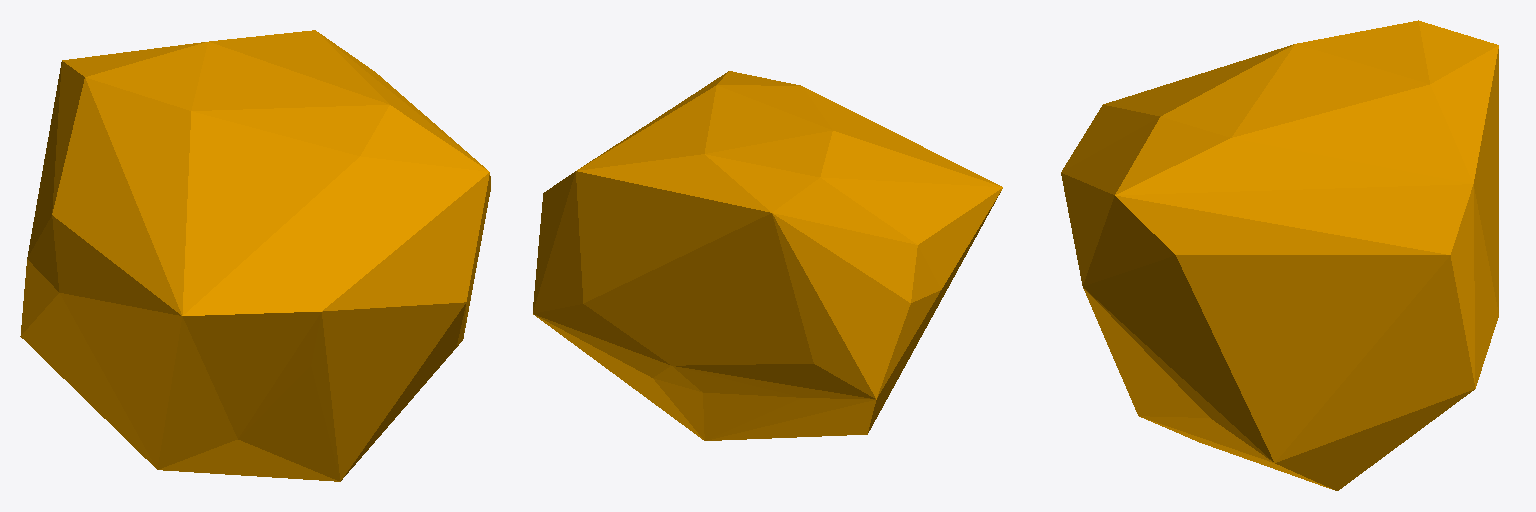
robot.urdf — 48_003:
<?xml version="1.0"?>
<robot name="48_003">
  <link name="link">
    <contact>
      <lateral_friction value="0.6"/>
    </contact>
    <inertial>
      <mass value = "0.5612344853050782"/>
      <inertia ixx="0.00031948880832318805" ixy="1.0314978911225971e-05" ixz="-5.894915789913554e-06" iyy="0.00033983099676156793" iyz="1.1967187125138041e-05" izz="0.0003673705134163022" />
    </inertial>
    <visual name="visual">
      <geometry>
        <mesh filename="48_003.obj"/>
      </geometry>
    </visual>
    <collision name="collision">
      <geometry>
        <mesh filename="48_003.obj"/>
      </geometry>
    </collision>
  </link>
</robot>

--- Facts derived from the render (not from the file) ---
Views: 3 orthographic renders of the robot side by side, from view 1: azimuth 30°, elevation 25°; view 2: azimuth 150°, elevation 25°; view 3: azimuth 270°, elevation 25°.
Model 48_003 with 1 links and 0 joints (none), rooted at link, posed all joints at 0.
Visible links, largest first — view 1: link; view 2: link; view 3: link.
Boxes of the visible links, x1,y1,x2,y2 form: link: (20,30,490,481); link: (533,71,1002,440); link: (1061,20,1498,490).
Size in the robot's own frame: 0.0788 by 0.0753 by 0.0729 metres.
Meshes: 1 distinct files referenced, 1 mesh visuals loaded (1 OBJ).
